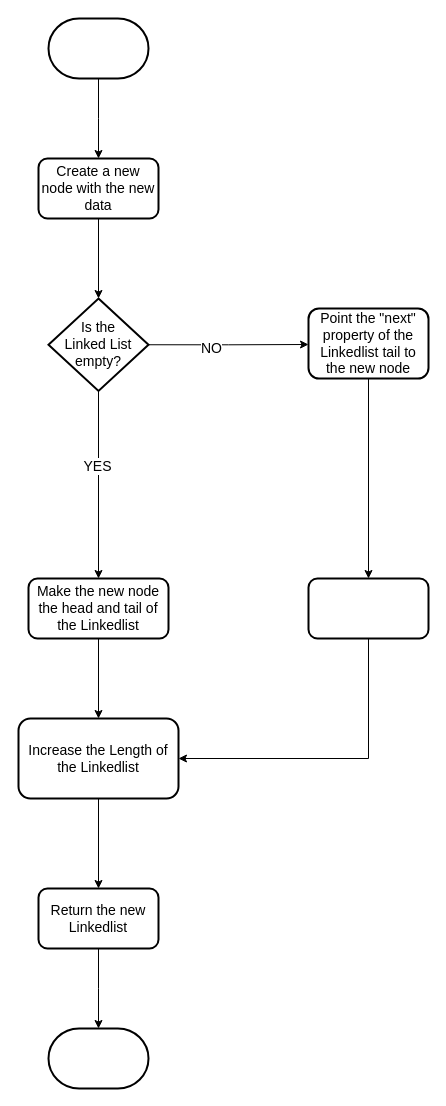
Some shapes in this 446 by 1106 pixel diagram are drawn without their labels. Each missing label, with the centre of its shape:
"END" goes at pixel 98 1058.
"Make the new node the tail" goes at pixel 368 608.
"START" goes at pixel 98 48.
